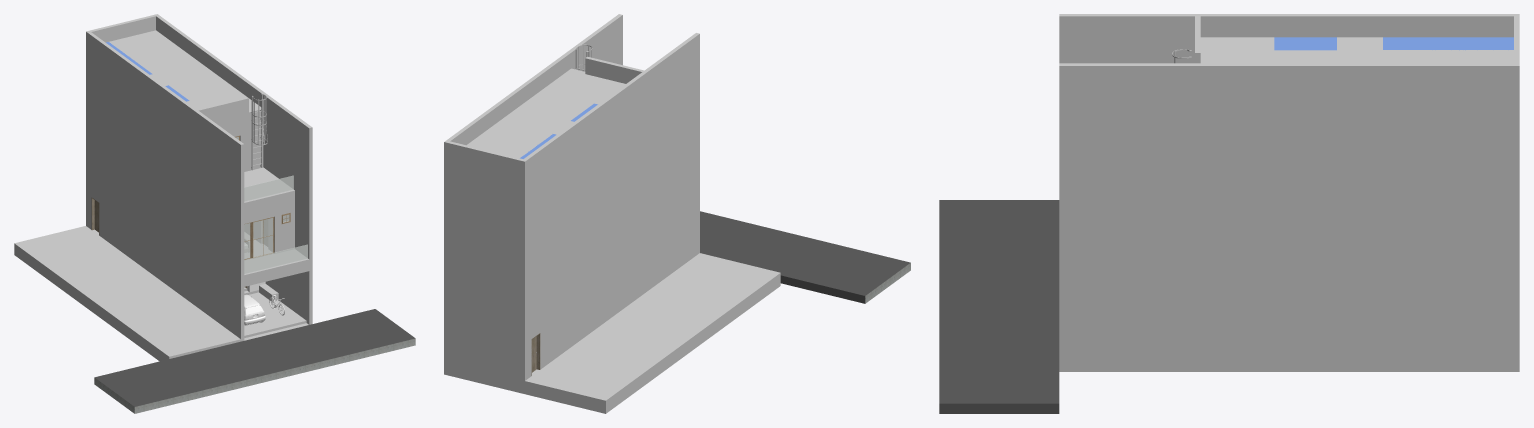
Rendered from Bro Abbas Mpalli House new.fbx.
3 renders of one model, left to right at view 1: azimuth 30°, elevation 25°; view 2: azimuth 150°, elevation 25°; view 3: azimuth 270°, elevation 25°, orthographic. The views are drawn at different scales.
Parts seen in each view (by area): view 1: Wall, Slab, Object, Window, Door; view 2: Wall, Slab; view 3: Wall, Slab.
Boxes of the visible parts, x1=… form: Wall: x1=86, y1=14, x2=312, y2=341; Slab: x1=14, y1=30, x2=415, y2=413; Object: x1=236, y1=93, x2=284, y2=325; Window: x1=235, y1=135, x2=290, y2=259; Door: x1=91, y1=197, x2=267, y2=288; Wall: x1=444, y1=14, x2=699, y2=380; Slab: x1=444, y1=68, x2=910, y2=413; Wall: x1=1059, y1=14, x2=1519, y2=357; Slab: x1=939, y1=37, x2=1519, y2=413.
Bounding box in the file's own units: 19.14 × 13.6 × 23.06.
Materials: 18 (8 with a texture image).
